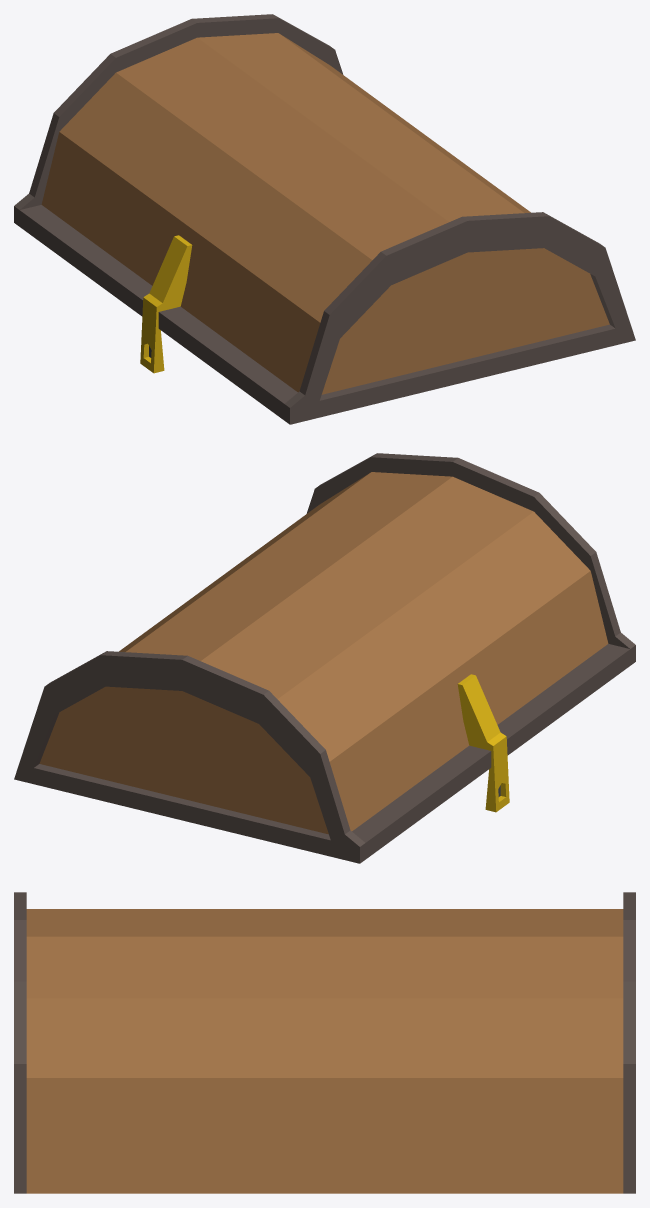
The model's file is Chest_Top.glb.
The picture shows the model from 3 angles, top to bottom: view 1: azimuth 30°, elevation 25°; view 2: azimuth 150°, elevation 25°; view 3: azimuth 270°, elevation 25°; orthographic projection. The views are drawn at different scales.
Parts seen in each view (by area): view 1: Chest_Top2; view 2: Chest_Top2; view 3: Chest_Top2.
Part boxes in pixels (<box>): Chest_Top2: <box>14,14,635,424</box>; Chest_Top2: <box>14,453,635,863</box>; Chest_Top2: <box>14,892,635,1193</box>.
Size of the model in its own units: 1.15 by 0.6382 by 1.56.
Materials: 2 (2 with a texture image).
